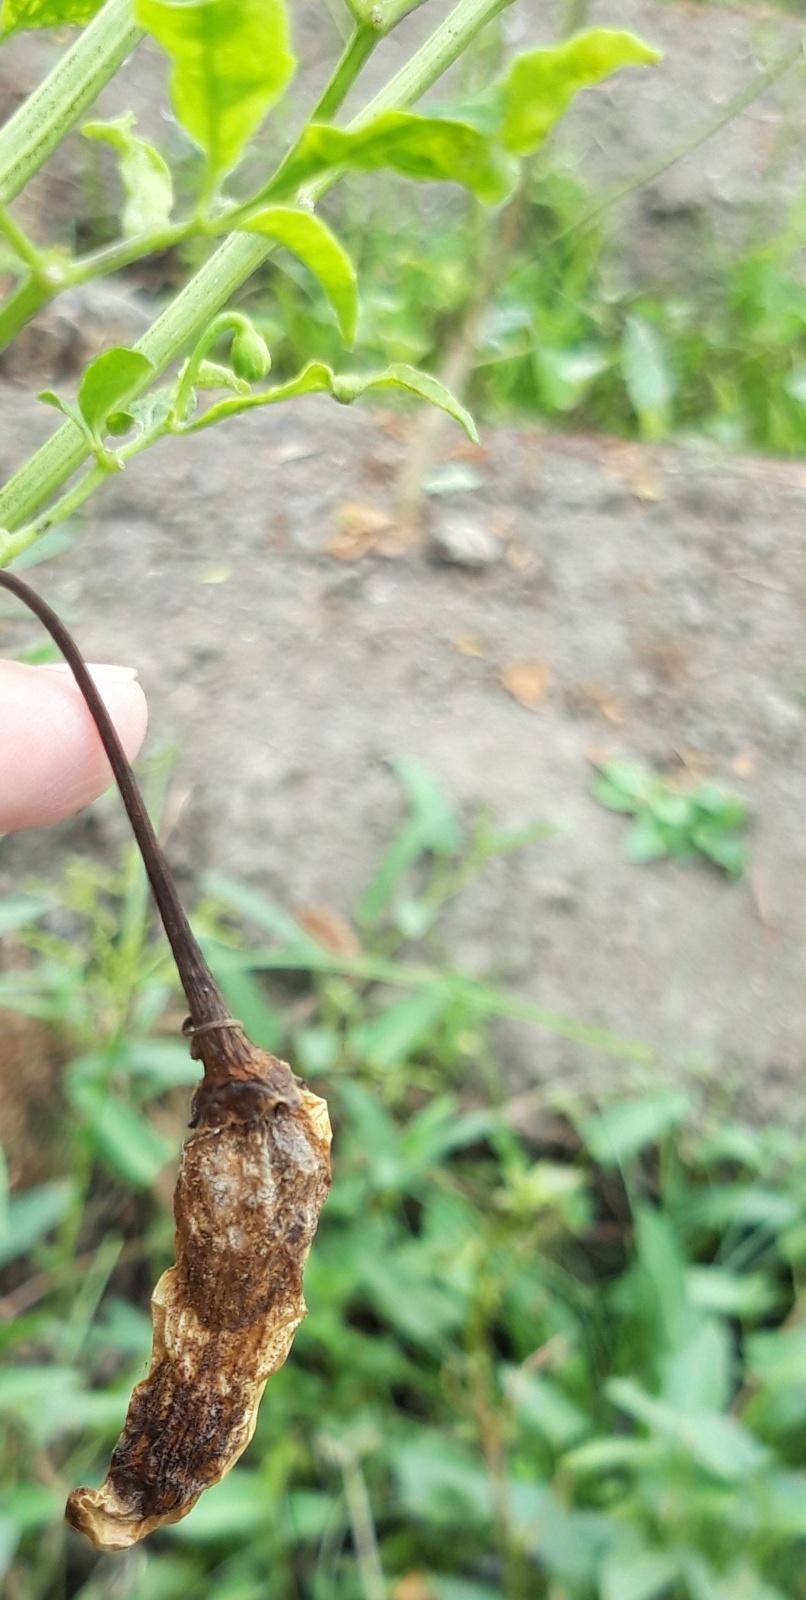antraknosa: (65, 1061, 333, 1554)
